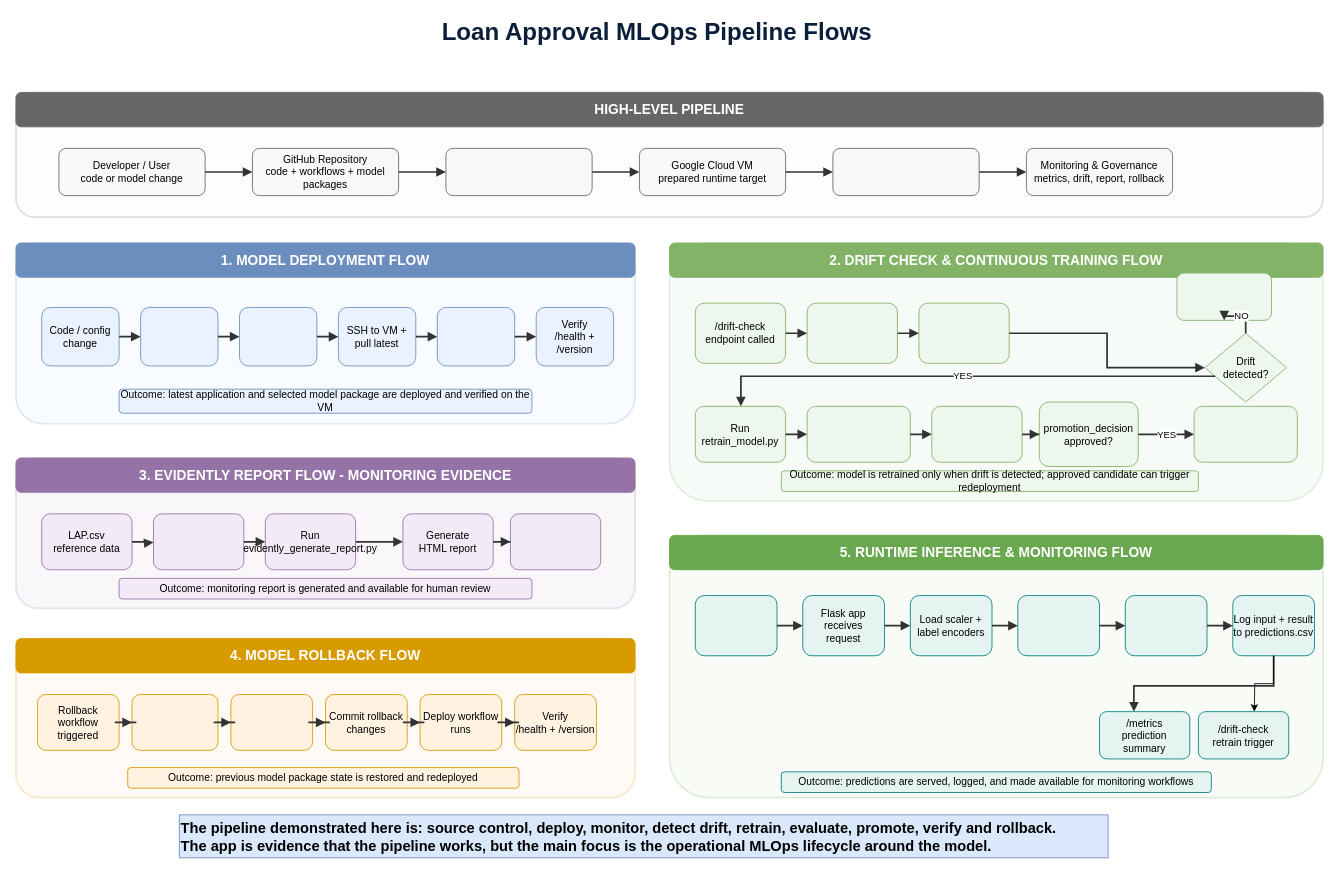
Image size: 1338x873. Some labels were removed from this diagram. Each missing label, with the centre of its shape:
"Build & run Docker container" goes at [475,336].
"Compare with LAP.csv baseline" goes at [963,332].
"Create / update model-v2-candidate" goes at [858,433].
"Deploy workflow starts" goes at [278,336].
"Docker Container Flask model service" goes at [905,171].
"Evaluate candidate metrics" goes at [976,433].
"GitHub Actions orchestration layer" goes at [518,171].
"No action required" goes at [1224,296].
"predictions.csv live data" goes at [198,541].
"Push to main branch" goes at [179,336].
"Read recent predictions.csv" goes at [851,332].
"Restore model package" goes at [271,722].
"Return prediction to user" goes at [1165,625].
"Run PyTorch model prediction" goes at [1058,625].
"Select previous commit/package" goes at [174,722].
"Update MODEL_VERSION commit to main" goes at [1245,433].
"Upload as GitHub Actions artifact" goes at [555,541].
"User submits loan application" goes at [735,625].
